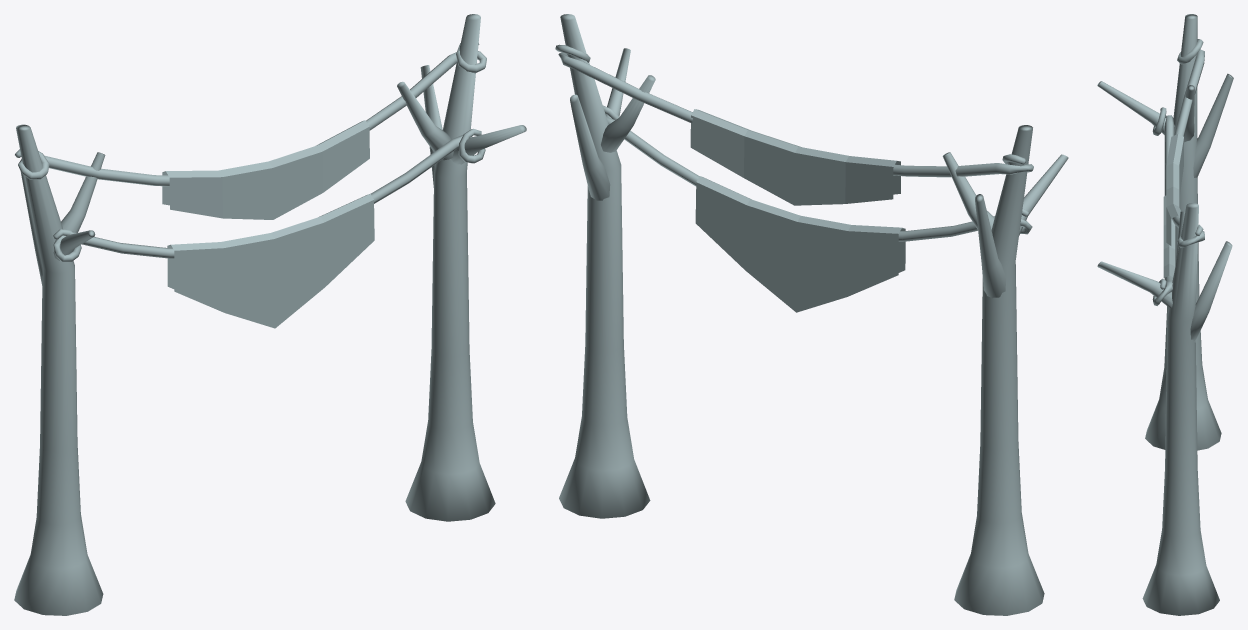
Rendered from market entrace flags.fbx.
3 views of the same model, side by side, from view 1: azimuth 30°, elevation 25°; view 2: azimuth 150°, elevation 25°; view 3: azimuth 270°, elevation 25° (orthographic). The views are drawn at different scales.
Parts seen in each view (by area): view 1: PineTree.001, PineTree, top flag, bottom flag, rope higher, rope lower; view 2: PineTree.001, PineTree, top flag, bottom flag, rope higher, rope lower; view 3: PineTree.001, PineTree, bottom flag, rope higher, rope lower, top flag.
Part boxes in pixels (x1,y1,x2,y2): PineTree.001: [397, 14, 526, 521]; PineTree: [14, 124, 105, 615]; top flag: [167, 193, 374, 328]; bottom flag: [162, 120, 369, 219]; rope higher: [15, 43, 486, 186]; rope lower: [53, 128, 485, 261]; PineTree.001: [559, 14, 655, 518]; PineTree: [942, 125, 1068, 615]; top flag: [695, 176, 905, 312]; bottom flag: [690, 109, 900, 205]; rope higher: [555, 44, 1033, 177]; rope lower: [603, 105, 1032, 241]; PineTree.001: [1097, 203, 1232, 615]; PineTree: [1097, 14, 1233, 450]; bottom flag: [1166, 134, 1183, 245]; rope higher: [1171, 39, 1204, 247]; rope lower: [1152, 107, 1174, 305]; top flag: [1163, 195, 1175, 277].
Size of the model in its own units: 380 by 367 by 112.
